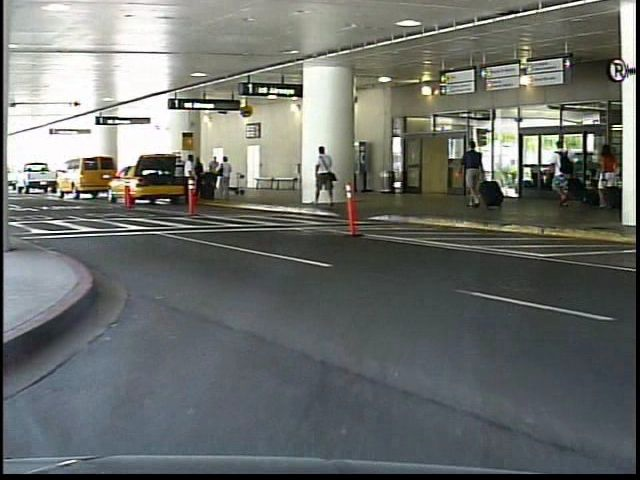person: (546, 138, 583, 218), (597, 133, 626, 218), (462, 138, 492, 213), (312, 142, 344, 211)
